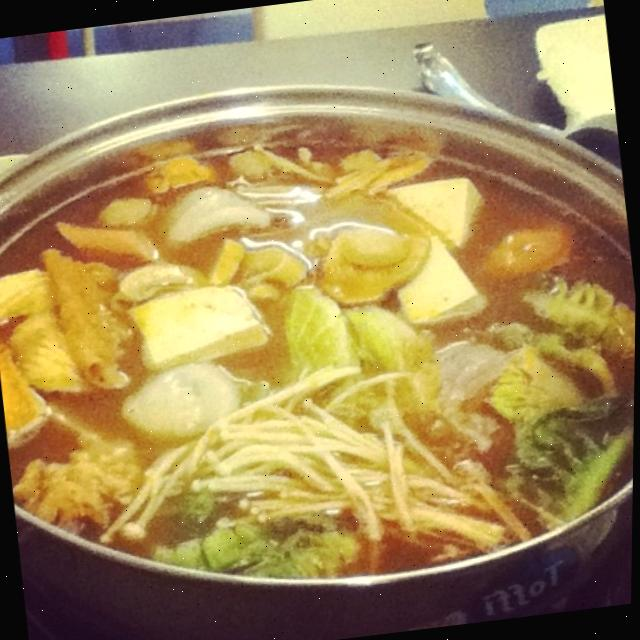汤锅炖物: (0, 31, 640, 640)
